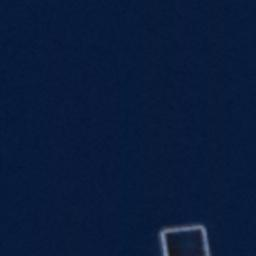square_solid: (154, 218, 215, 256)
